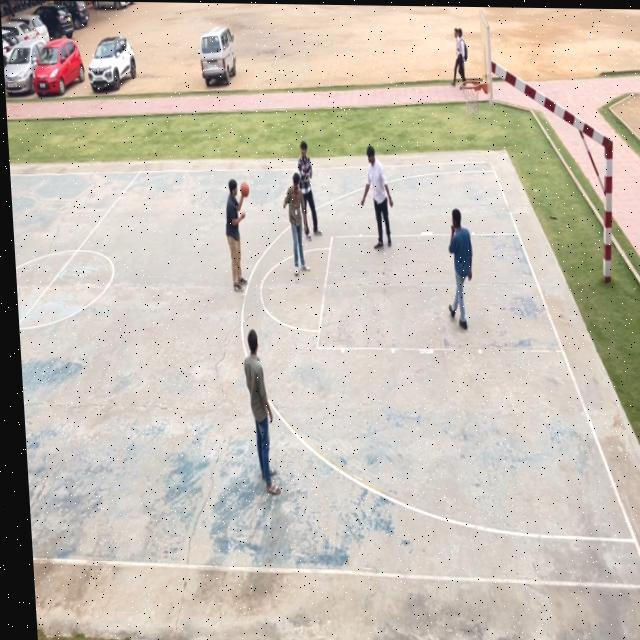basketball: (239, 179, 250, 198)
hoop: (459, 78, 486, 118)
